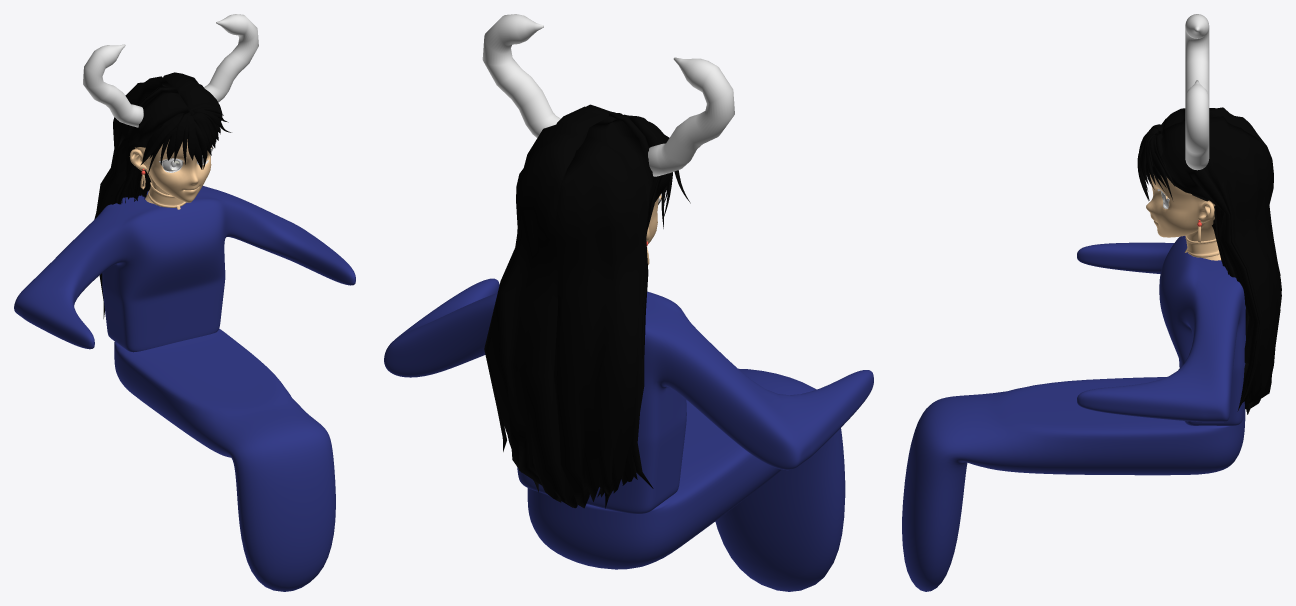
The model's file is czar.glb.
The picture shows the model from 3 angles, left to right: view 1: azimuth 30°, elevation 25°; view 2: azimuth 150°, elevation 25°; view 3: azimuth 270°, elevation 25°; orthographic projection. The views are drawn at different scales.
Visible parts, largest first — view 1: Cube.003, Cube.001, Cylinder.004; view 2: Cube.003, Cube.001, Cylinder.004; view 3: Cube.003, Cube.001, Cylinder.004.
Part boxes in pixels (bbox=[...]): Cube.003: bbox=[14, 186, 355, 591]; Cube.001: bbox=[94, 72, 231, 318]; Cylinder.004: bbox=[83, 14, 258, 127]; Cube.003: bbox=[384, 278, 873, 591]; Cube.001: bbox=[484, 104, 690, 508]; Cylinder.004: bbox=[482, 14, 734, 176]; Cube.003: bbox=[902, 236, 1245, 591]; Cube.001: bbox=[1137, 107, 1281, 414]; Cylinder.004: bbox=[1185, 14, 1209, 170].
Bounding box in the file's own units: 1.91 × 2.97 × 1.91.
